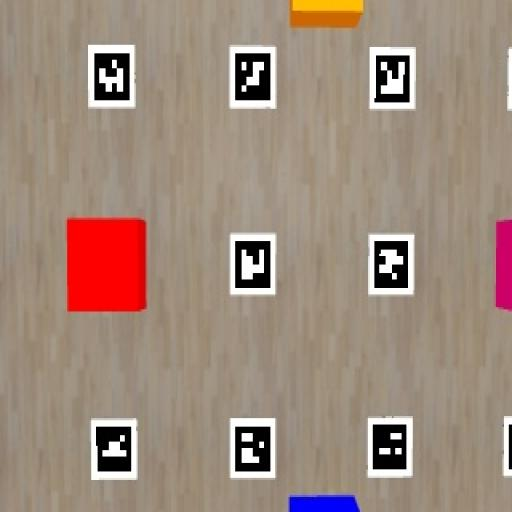car: (495, 220, 511, 311), (288, 495, 359, 511)
fire: (68, 218, 147, 311), (290, 0, 364, 27)
